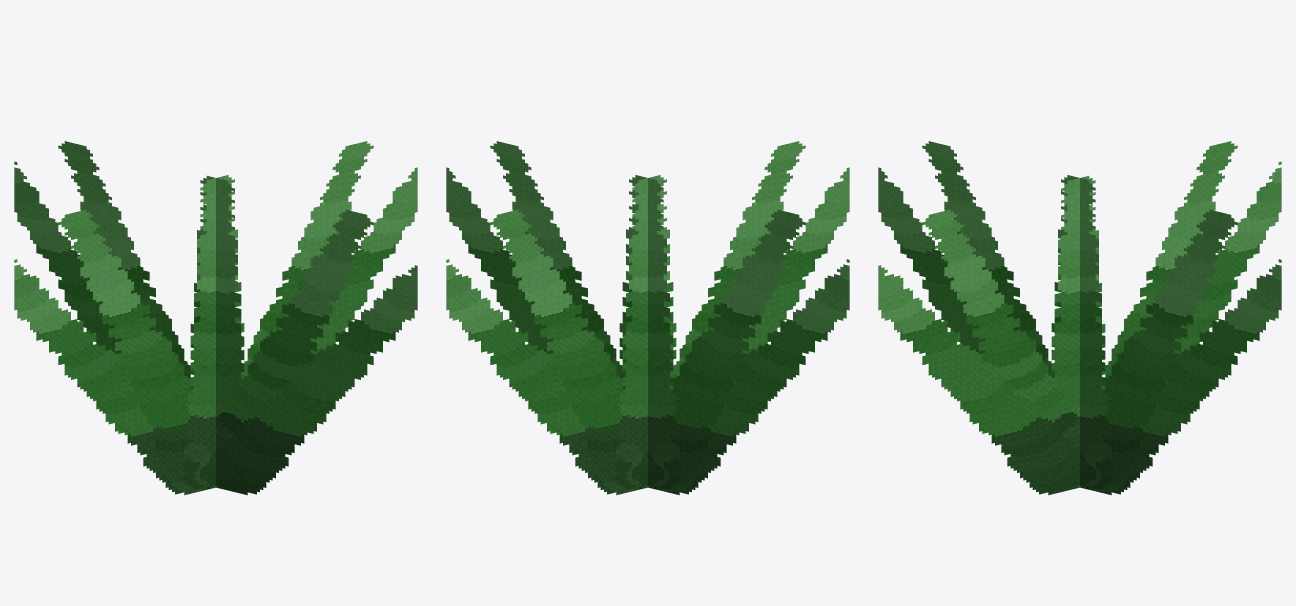
File: samambaia.glb
3 views of the same model, side by side, from view 1: azimuth 30°, elevation 25°; view 2: azimuth 150°, elevation 25°; view 3: azimuth 270°, elevation 25° (orthographic).
Parts seen in each view (by area): view 1: samambaia; view 2: samambaia; view 3: samambaia.
Part boxes in pixels (<box>): samambaia: <box>14,141,417,495</box>; samambaia: <box>446,141,849,495</box>; samambaia: <box>878,141,1281,495</box>.
Size of the model in its own units: 0.82 by 0.74 by 0.7101.
Materials: 1 (1 with a texture image).
